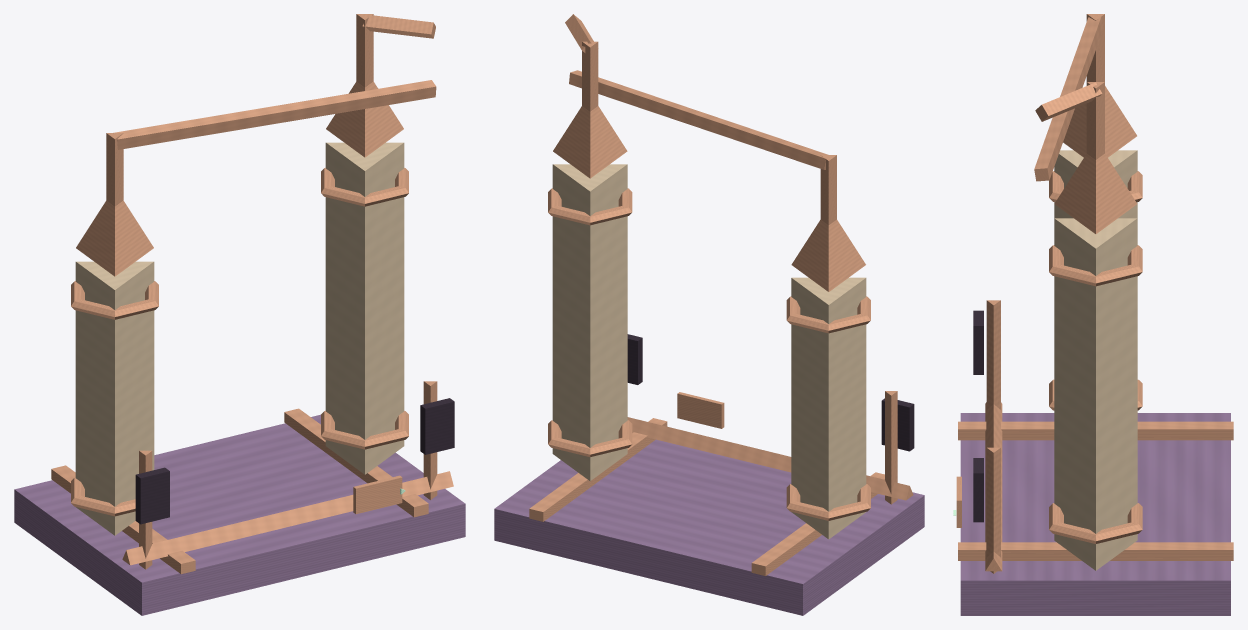
Rendered from atlas100-s082-a01.lod1.glb.
The picture shows the model from 3 angles, left to right: view 1: azimuth 30°, elevation 25°; view 2: azimuth 150°, elevation 25°; view 3: azimuth 270°, elevation 25°; orthographic projection. The views are drawn at different scales.
Visible parts, largest first — view 1: atlas100-s082-a01:part-000, atlas100-s082-a01:part-010, atlas100-s082-a01:part-003, atlas100-s082-a01:part-009, atlas100-s082-a01:part-021, atlas100-s082-a01:part-007, atlas100-s082-a01:part-014, atlas100-s082-a01:part-002, atlas100-s082-a01:part-020, atlas100-s082-a01:part-018, atlas100-s082-a01:part-005, atlas100-s082-a01:part-011 (+9 smaller); view 2: atlas100-s082-a01:part-000, atlas100-s082-a01:part-010, atlas100-s082-a01:part-003, atlas100-s082-a01:part-009, atlas100-s082-a01:part-021, atlas100-s082-a01:part-007, atlas100-s082-a01:part-014, atlas100-s082-a01:part-002, atlas100-s082-a01:part-001, atlas100-s082-a01:part-004, atlas100-s082-a01:part-011, atlas100-s082-a01:part-005 (+7 smaller); view 3: atlas100-s082-a01:part-000, atlas100-s082-a01:part-010, atlas100-s082-a01:part-002, atlas100-s082-a01:part-014, atlas100-s082-a01:part-001, atlas100-s082-a01:part-009, atlas100-s082-a01:part-007, atlas100-s082-a01:part-012, atlas100-s082-a01:part-011, atlas100-s082-a01:part-003, atlas100-s082-a01:part-019, atlas100-s082-a01:part-017 (+7 smaller).
Part boxes in pixels (x1=…): atlas100-s082-a01:part-000: x1=14, y1=414, x2=465, y2=615; atlas100-s082-a01:part-010: x1=325, y1=142, x2=404, y2=474; atlas100-s082-a01:part-003: x1=75, y1=261, x2=154, y2=535; atlas100-s082-a01:part-009: x1=113, y1=80, x2=436, y2=149; atlas100-s082-a01:part-021: x1=122, y1=471, x2=453, y2=565; atlas100-s082-a01:part-007: x1=76, y1=200, x2=153, y2=276; atlas100-s082-a01:part-014: x1=326, y1=81, x2=403, y2=157; atlas100-s082-a01:part-002: x1=284, y1=408, x2=428, y2=517; atlas100-s082-a01:part-020: x1=420, y1=398, x2=454, y2=454; atlas100-s082-a01:part-018: x1=135, y1=467, x2=169, y2=524; atlas100-s082-a01:part-005: x1=71, y1=281, x2=158, y2=319; atlas100-s082-a01:part-011: x1=321, y1=411, x2=408, y2=449; atlas100-s082-a01:part-000: x1=494, y1=439, x2=924, y2=615; atlas100-s082-a01:part-010: x1=552, y1=164, x2=627, y2=480; atlas100-s082-a01:part-003: x1=791, y1=277, x2=866, y2=539; atlas100-s082-a01:part-009: x1=569, y1=70, x2=828, y2=169; atlas100-s082-a01:part-021: x1=627, y1=417, x2=913, y2=500; atlas100-s082-a01:part-007: x1=791, y1=219, x2=865, y2=291; atlas100-s082-a01:part-014: x1=553, y1=106, x2=627, y2=178; atlas100-s082-a01:part-002: x1=529, y1=418, x2=667, y2=521; atlas100-s082-a01:part-001: x1=751, y1=472, x2=884, y2=575; atlas100-s082-a01:part-004: x1=786, y1=484, x2=870, y2=520; atlas100-s082-a01:part-011: x1=548, y1=420, x2=632, y2=457; atlas100-s082-a01:part-005: x1=786, y1=296, x2=870, y2=333; atlas100-s082-a01:part-000: x1=960, y1=413, x2=1230, y2=615; atlas100-s082-a01:part-010: x1=1054, y1=218, x2=1137, y2=570; atlas100-s082-a01:part-002: x1=958, y1=542, x2=1233, y2=560; atlas100-s082-a01:part-014: x1=1054, y1=153, x2=1137, y2=233; atlas100-s082-a01:part-001: x1=958, y1=421, x2=1233, y2=440; atlas100-s082-a01:part-009: x1=1034, y1=16, x2=1103, y2=181; atlas100-s082-a01:part-007: x1=1063, y1=86, x2=1136, y2=157; atlas100-s082-a01:part-012: x1=1049, y1=245, x2=1142, y2=286; atlas100-s082-a01:part-011: x1=1049, y1=503, x2=1142, y2=543; atlas100-s082-a01:part-003: x1=1054, y1=150, x2=1137, y2=218; atlas100-s082-a01:part-019: x1=986, y1=447, x2=1000, y2=573; atlas100-s082-a01:part-017: x1=986, y1=300, x2=1000, y2=409.
Bounding box in the file's own units: 2.8 × 3.78 × 1.87.
Materials: 5 (5 with a texture image).
